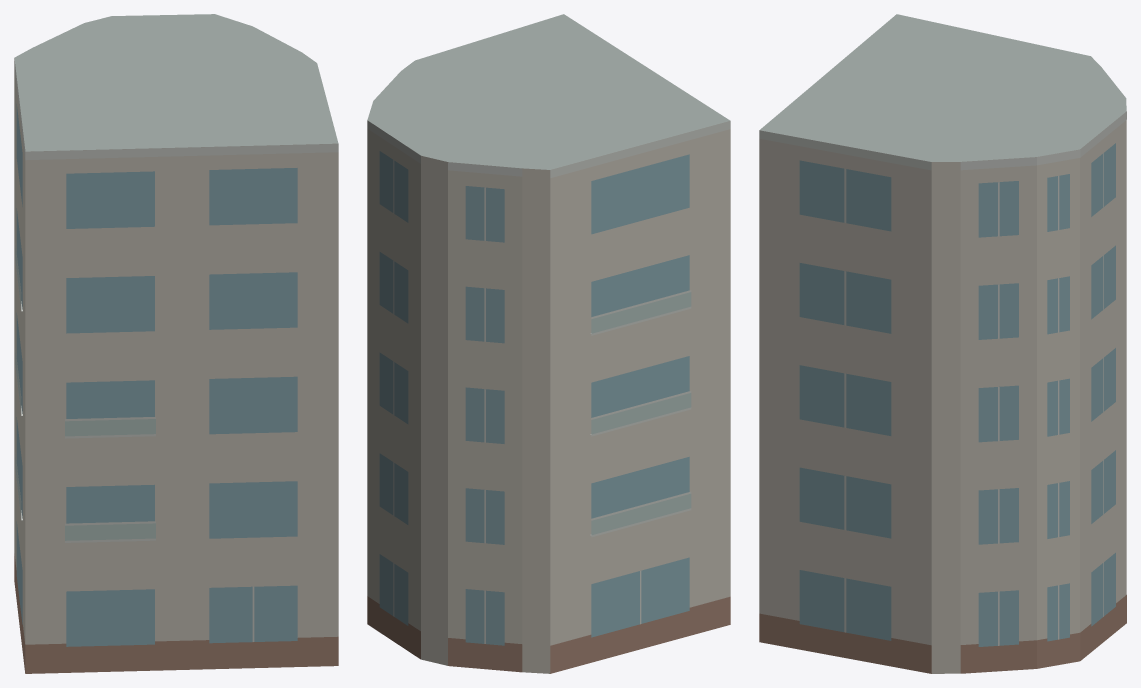
Rendered from survey-upis-32733917.glb.
3 renders of one model, left to right at view 1: azimuth 30°, elevation 25°; view 2: azimuth 150°, elevation 25°; view 3: azimuth 270°, elevation 25°, orthographic. The views are drawn at different scales.
Parts seen in each view (by area): view 1: survey-upis-32733917.tmp; view 2: survey-upis-32733917.tmp; view 3: survey-upis-32733917.tmp.
Part boxes in pixels (x1,y1,x2,y2): survey-upis-32733917.tmp: (14, 14, 338, 673); survey-upis-32733917.tmp: (367, 14, 730, 673); survey-upis-32733917.tmp: (759, 14, 1126, 673).
Size of the model in its own units: 9.19 by 14.8 by 9.64.
